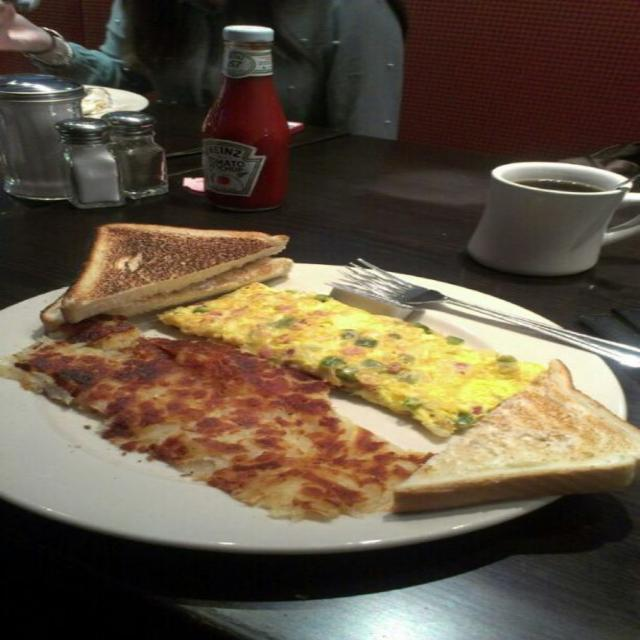Sandwich: (387, 359, 639, 519), (40, 219, 290, 327)
